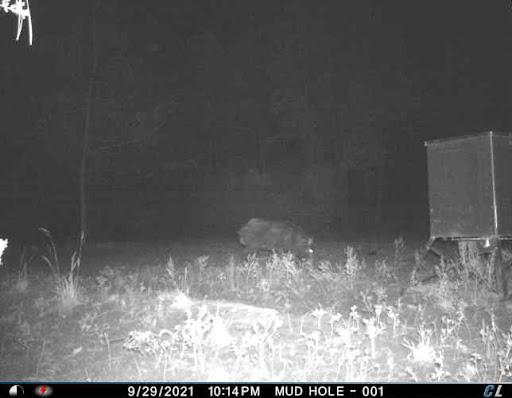Hog: (229, 213, 320, 267)
